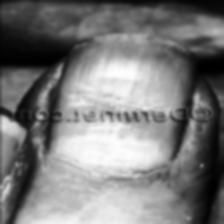Toxin: (74, 88, 170, 116)
